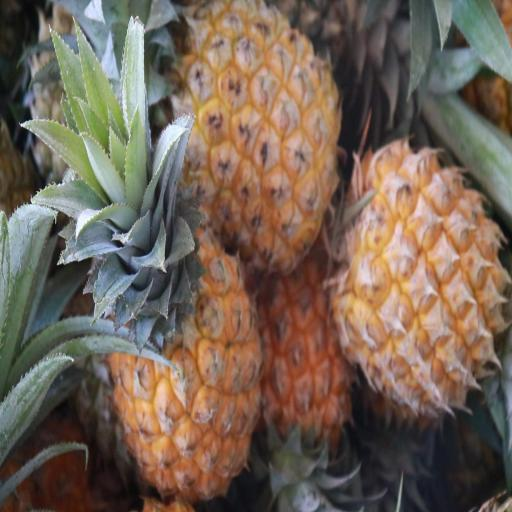Pineapple - v8 v1: (105, 141, 263, 503), (338, 144, 506, 416), (175, 0, 343, 267), (256, 257, 362, 489)
